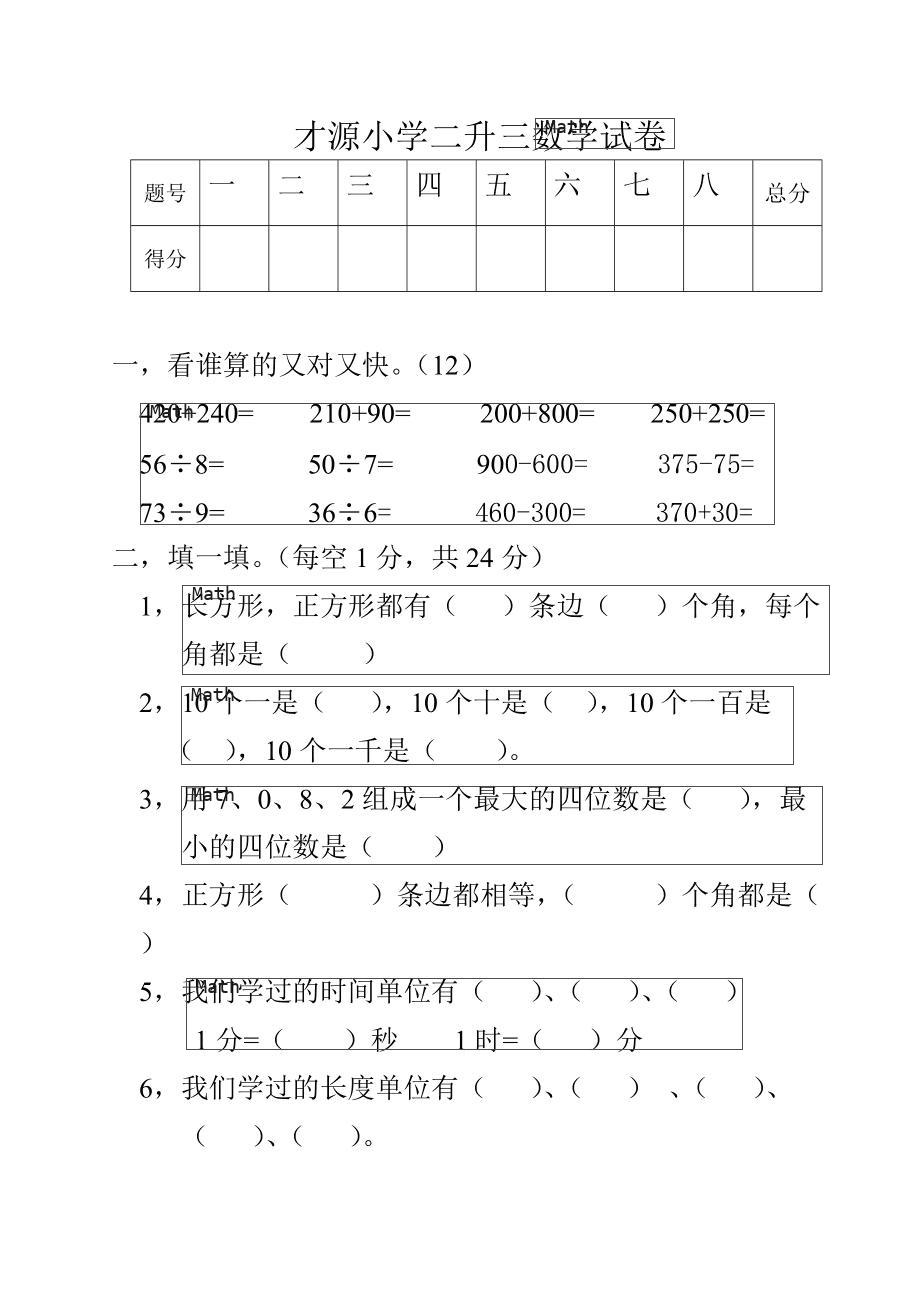Math: (140, 403, 774, 524), (182, 585, 829, 674), (181, 786, 822, 864), (181, 686, 793, 764), (186, 978, 742, 1049), (535, 118, 674, 148)
